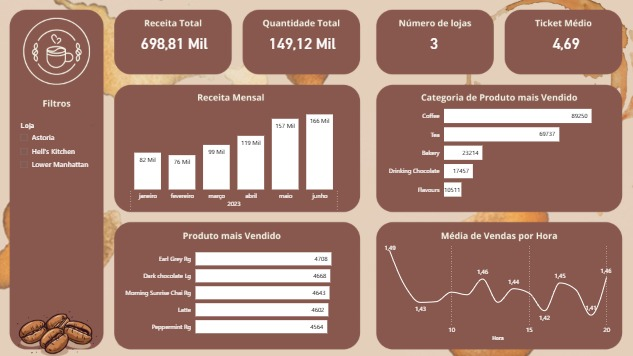

This screenshot's page, from the dashboard's own definition file:
{"tool":"powerbi","page":{"name":"Geral","canvas":[1280,720],"ordinal":0},"visuals":[{"type":"card","title":"Faturamento Total","fields":{"Values":["Transactions.Receita Total"]},"box":[48,127.2,272,96],"z":0},{"type":"clusteredColumnChart","title":"Receita por Loja","fields":{"Category":["Transactions.store_location"],"Y":["Transactions.Receita Total"]},"box":[656,240,592,224],"z":1000},{"type":"columnChart","title":"Receita Mensal","fields":{"Category":["Transactions.transaction_date.Variation.Hierarquia de datas.Ano","Transactions.transaction_date.Variation.Hierarquia de datas.Mês"],"Y":["Transactions.Receita Total"]},"box":[32,240,592,224],"z":2000},{"type":"card","title":"Quantidade de Vendas","fields":{"Values":["Transactions.Qtd Vendas"]},"box":[352,127.2,272,96],"z":3000},{"type":"lineChart","title":"Horário das Transações","fields":{"Category":["Transactions.Hora"],"Y":["Sum(Transactions.transaction_qty)"]},"box":[656,480,592,224],"z":4000},{"type":"textbox","box":[32,0,1216,112],"z":5000},{"type":"card","title":"Quantidade de Lojas","fields":{"Values":["Min(Transactions.store_id)"]},"box":[656,127.2,272,96],"z":6000},{"type":"card","title":"Ticket Médio","fields":{"Values":["Transactions.Ticket Médio"]},"box":[960,128,272,96],"z":7000},{"type":"lineChart","title":"Quantidade de Transações Mensais","fields":{"Category":["Transactions.transaction_date.Variation.Hierarquia de datas.Ano","Transactions.transaction_date.Variation.Hierarquia de datas.Mês"],"Y":["Transactions.Qtd Vendas"]},"box":[32,480,592,224],"z":8000}]}

Visuals, with their boxes in screenshot pixels (x1, y1, x2, y2), scaled from the page's 1280x720 canvas onto the 633x356 screenshot:
"Faturamento Total" card: rect(24, 63, 158, 110)
"Receita por Loja" clusteredColumnChart: rect(324, 119, 617, 229)
"Receita Mensal" columnChart: rect(16, 119, 309, 229)
"Quantidade de Vendas" card: rect(174, 63, 309, 110)
"Horário das Transações" lineChart: rect(324, 237, 617, 348)
textbox: rect(16, 0, 617, 55)
"Quantidade de Lojas" card: rect(324, 63, 459, 110)
"Ticket Médio" card: rect(475, 63, 609, 111)
"Quantidade de Transações Mensais" lineChart: rect(16, 237, 309, 348)
